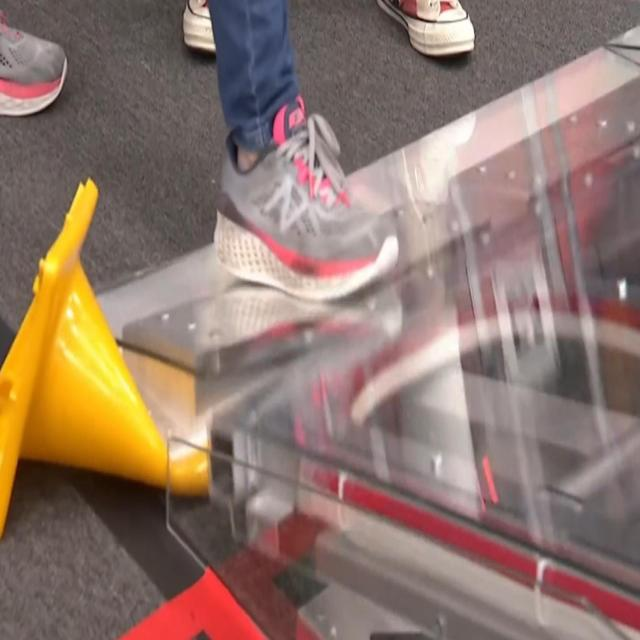frc_cone: (0, 173, 210, 554)
